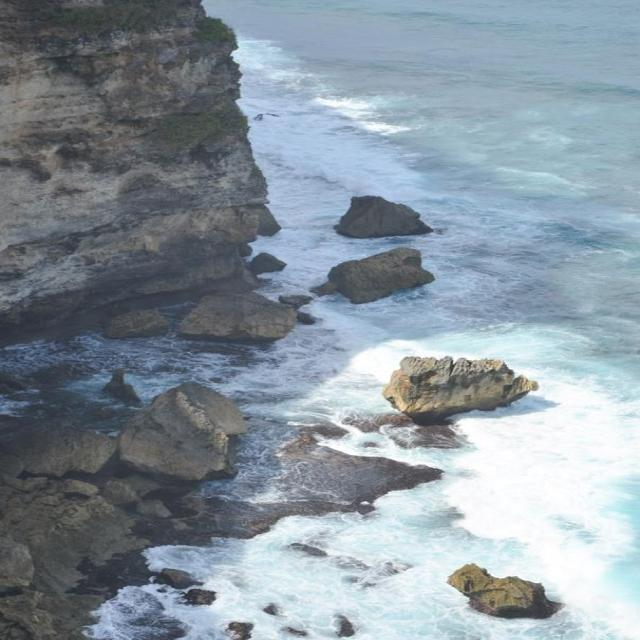reef: (35, 362, 382, 574), (268, 158, 507, 435)
